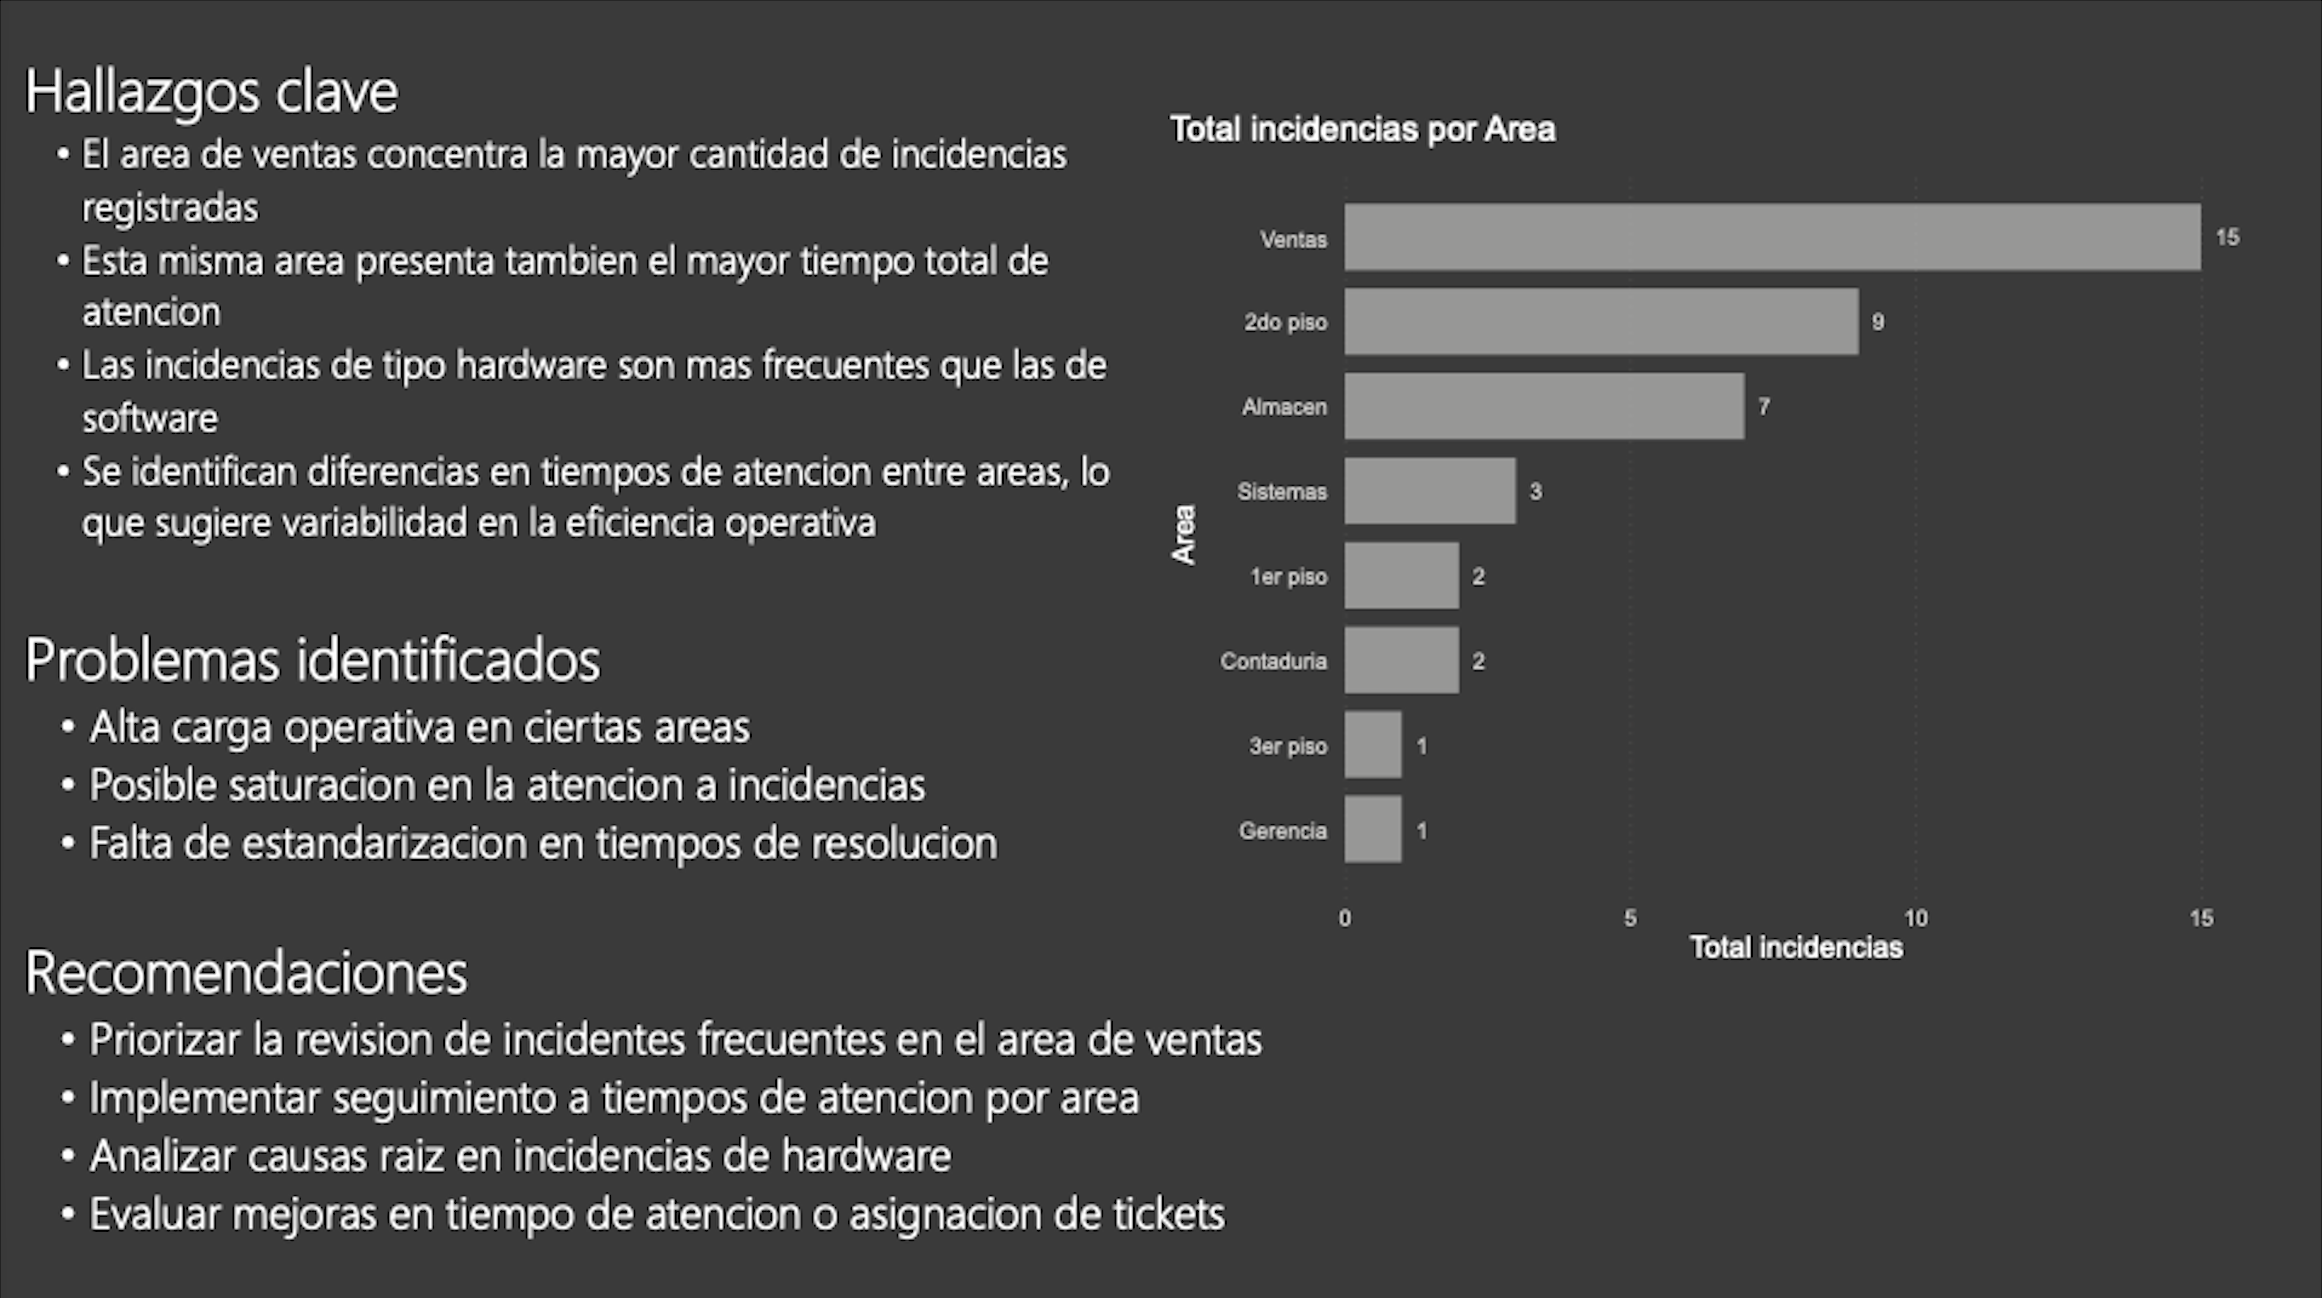

The page's visual inventory and layout, read from the dashboard file:
{"tool":"powerbi","page":{"name":"Insights","canvas":[1280,720],"ordinal":2},"visuals":[{"type":"textbox","box":[10.4,22,608.9,291.7],"z":0},{"type":"textbox","box":[10.4,334.5,600.8,172.5],"z":1},{"type":"textbox","box":[10.4,507,858.9,185.2],"z":2},{"type":"clusteredBarChart","fields":{"Category":["td_incidencias.Area"],"Y":["td_incidencias.Total incidencias"]},"box":[640.1,61.4,611.2,474.6],"z":3}]}

Visuals, with their boxes in screenshot pixels (x1, y1, x2, y2), scaled from the page's 1280x720 canvas onto the 2322x1298 screenshot:
textbox: BBox(19, 40, 1123, 566)
textbox: BBox(19, 603, 1109, 914)
textbox: BBox(19, 914, 1577, 1248)
clusteredBarChart - td_incidencias.Area x td_incidencias.Total incidencias: BBox(1161, 111, 2270, 966)
